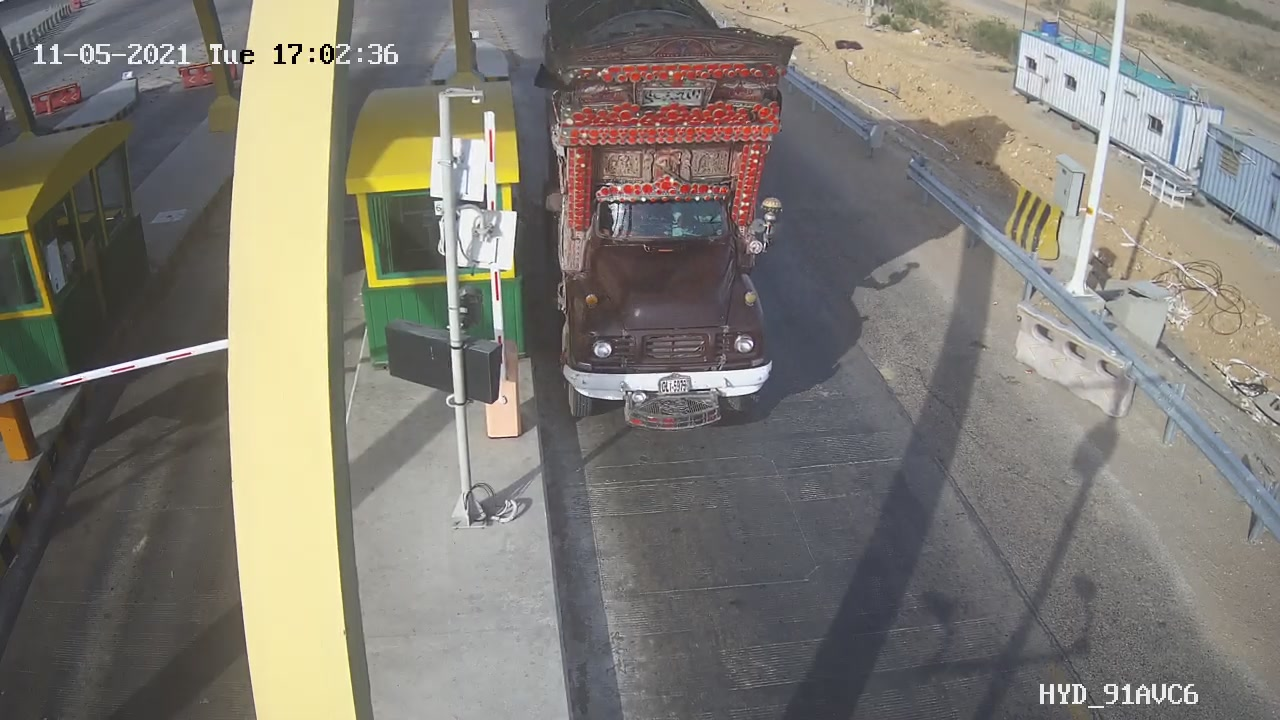F5: (530, 1, 816, 451)
